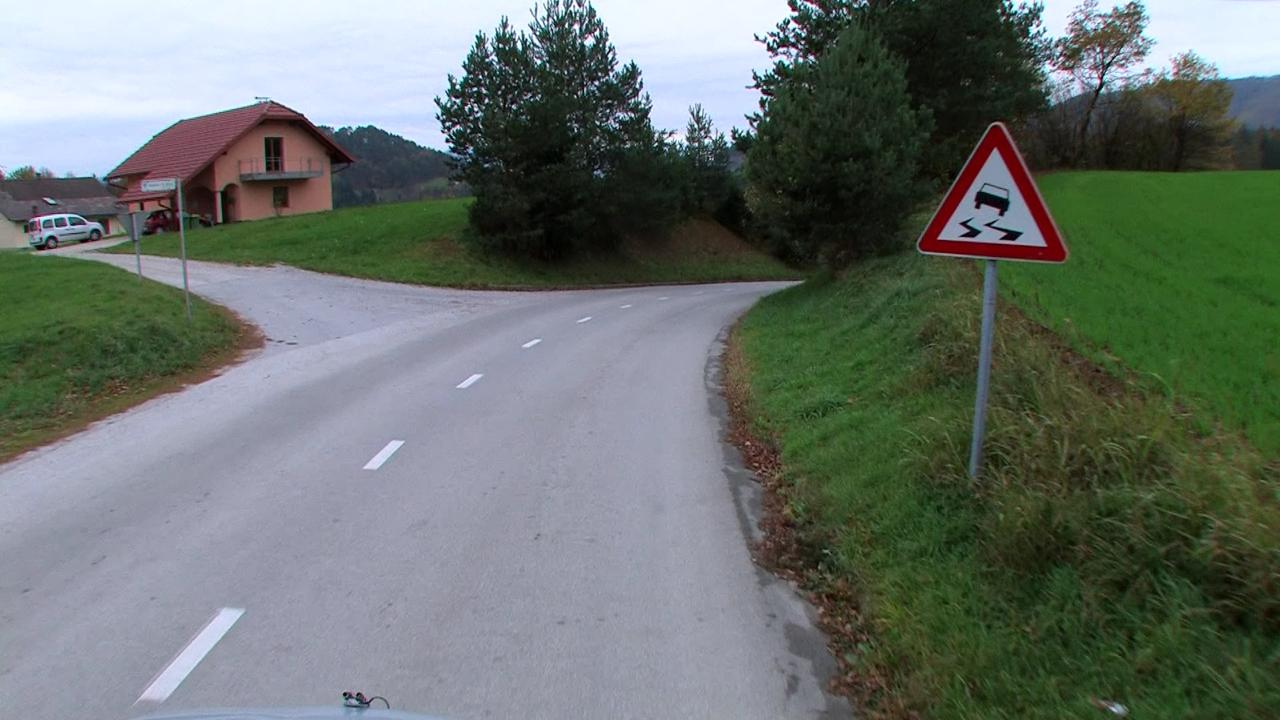Triangle: (917, 120, 1071, 266)
